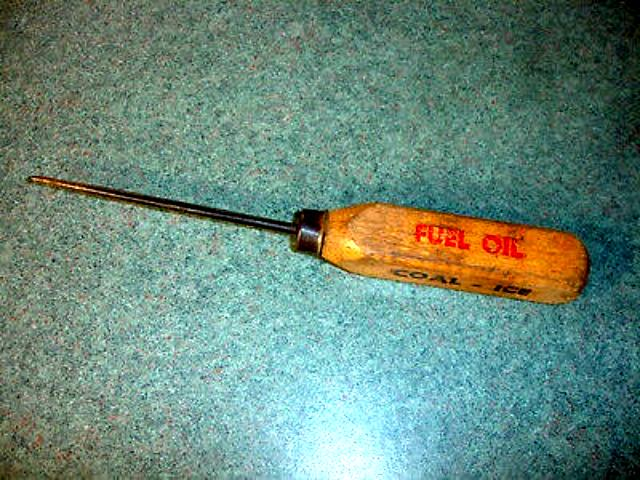ice pick: (28, 174, 590, 306)
